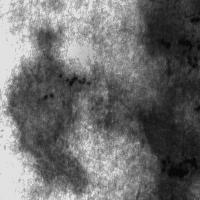patches: (71, 19, 189, 137), (8, 27, 90, 193), (135, 79, 199, 195), (142, 1, 198, 74)
